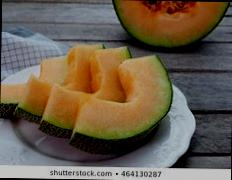Melon Ripe: (71, 54, 174, 156), (41, 46, 132, 137), (18, 43, 104, 123), (110, 0, 230, 49)
